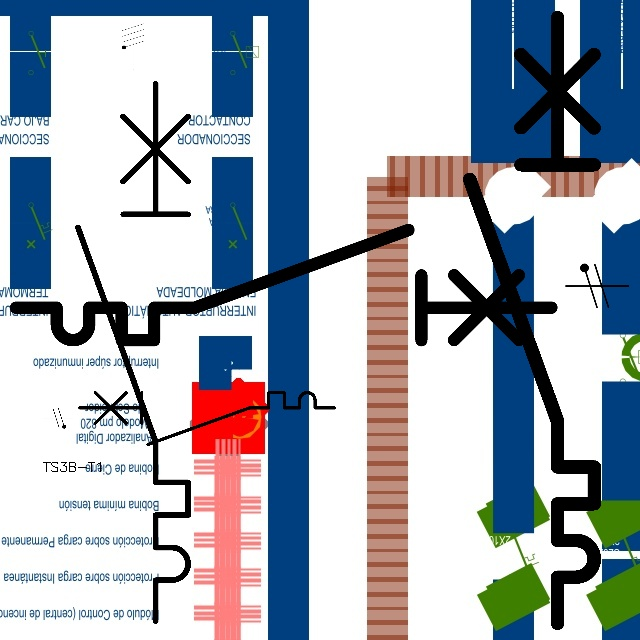interruptor_termomagnetico: (454, 2, 610, 639), (64, 69, 202, 634), (2, 216, 565, 354), (73, 386, 341, 451)
